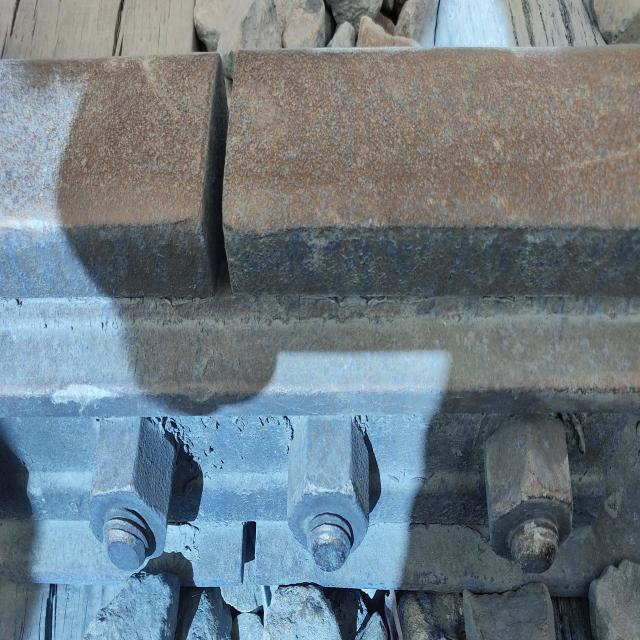railway_join_bar_defects_low: (184, 51, 244, 297)
